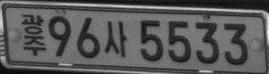3: (195, 21, 220, 64), (223, 23, 248, 65)
5: (140, 19, 163, 61), (168, 21, 191, 63)
6: (76, 16, 101, 58)
9: (47, 14, 71, 57)
광주_V: (20, 14, 47, 55)
사: (104, 21, 128, 57)
